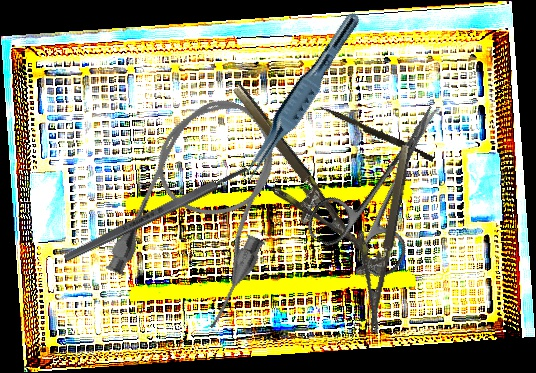Cannula: (98, 80, 312, 335)
Iris Scissors: (300, 82, 481, 285)
Needle Holder: (209, 82, 371, 277), (340, 140, 414, 334)
Pusher: (317, 104, 436, 163)
Scalpel Handle: (62, 163, 250, 264)
Tissue Forceps: (236, 4, 363, 191)
